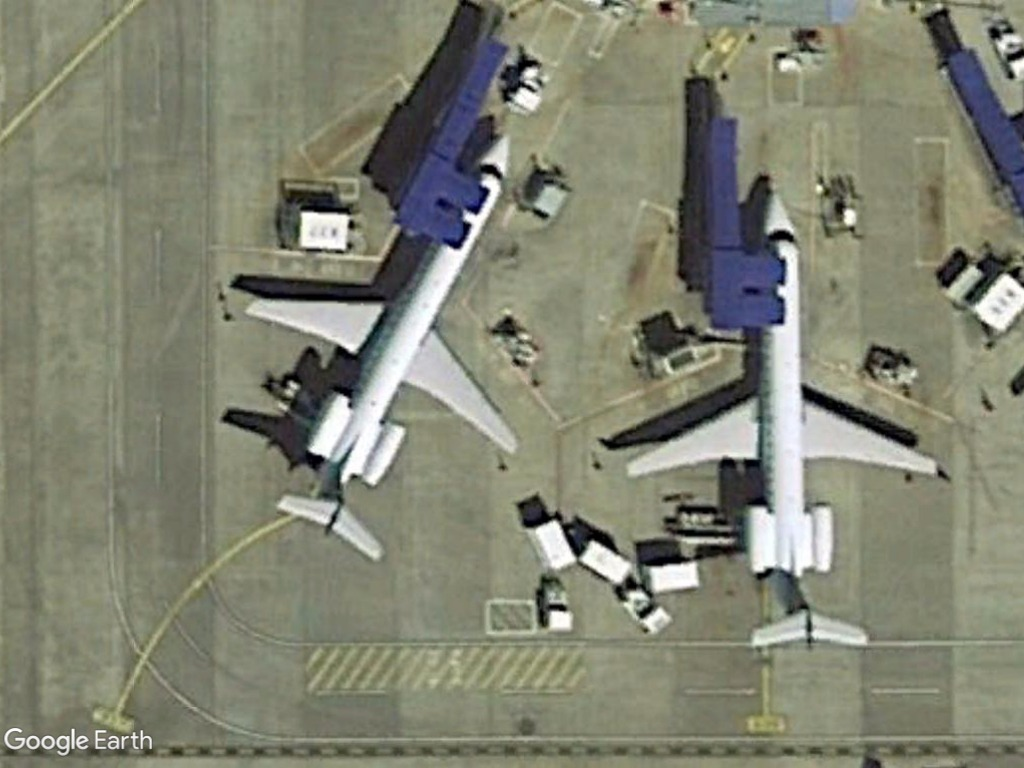chartered: (613, 182, 951, 656), (237, 130, 526, 574)
